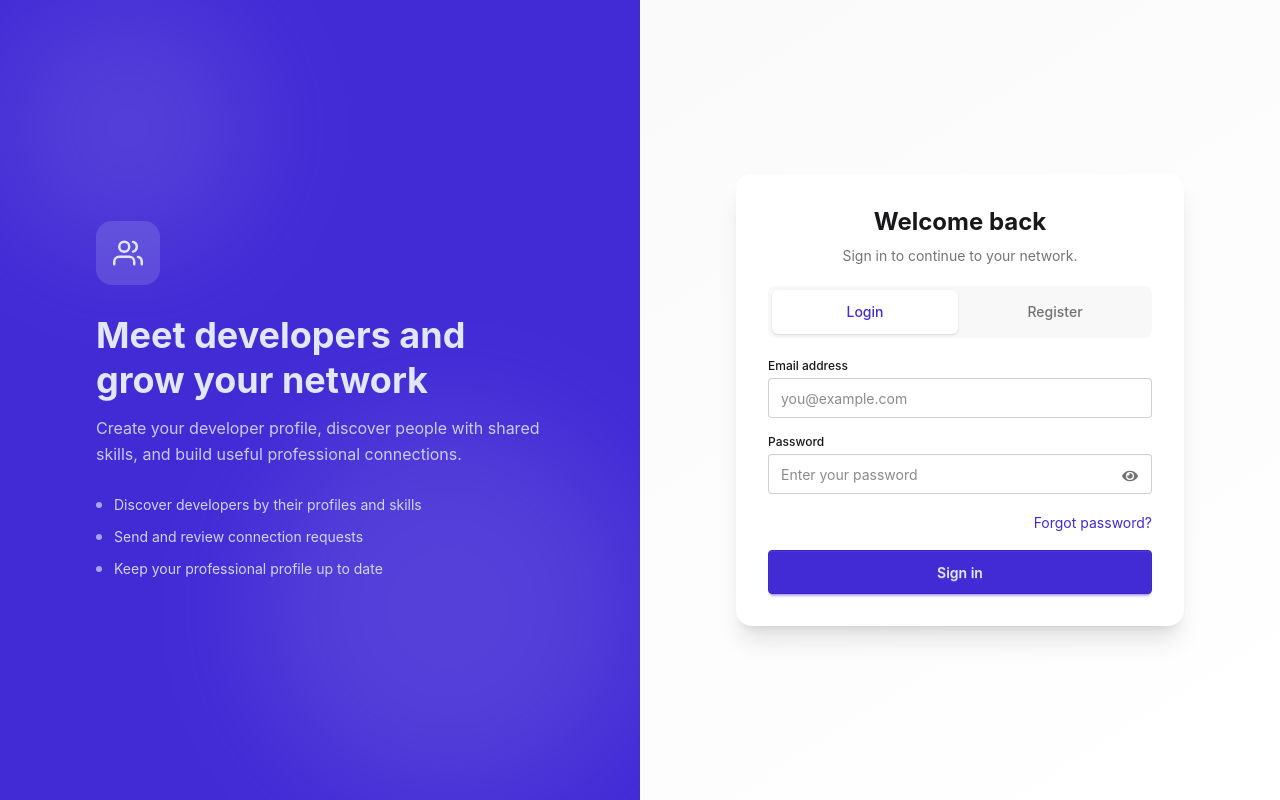
Test case: LoginPage › shows responsive labelled registration fields without duplicate errors
Click the tab "Register".
click(1055, 312)  # box [962,290,1148,334]
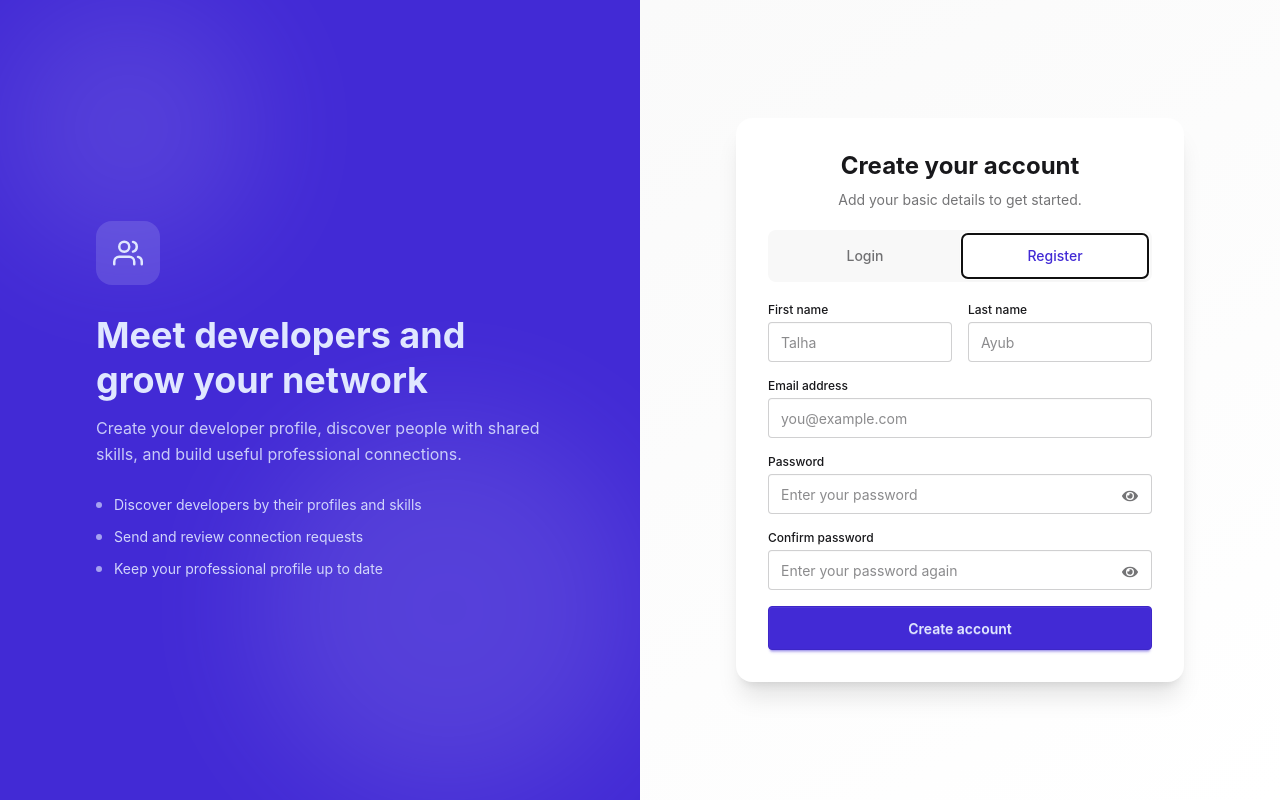
Result: the field labelled "First name" is shown at [768,322,952,362]
Result: the field labelled "Last name" is shown at [968,322,1152,362]
Result: the password field labelled "Confirm password" is shown at [768,550,1152,590]
